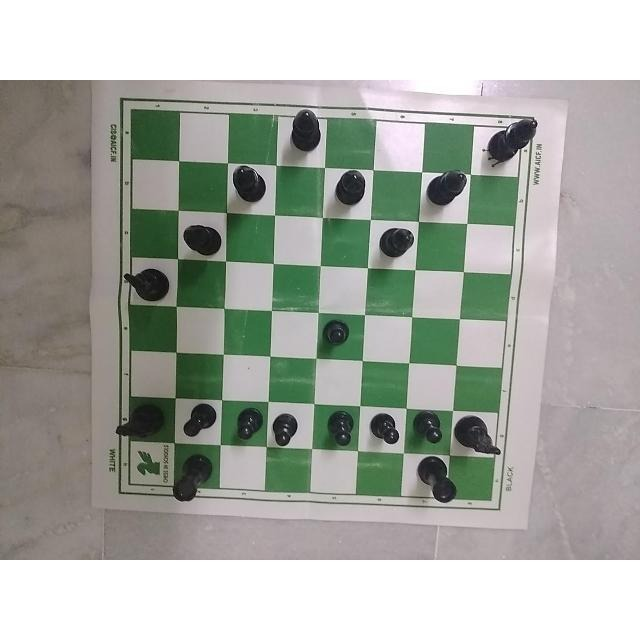black-bishop: (487, 111, 542, 167), (424, 166, 473, 215), (179, 209, 221, 265), (286, 103, 327, 157), (233, 161, 269, 209), (334, 167, 373, 209), (380, 222, 420, 261)
black-knight: (112, 398, 164, 448), (452, 411, 504, 460), (121, 266, 169, 306)
black-pawn: (174, 399, 220, 443), (227, 403, 268, 447), (313, 312, 359, 350), (412, 410, 448, 450), (326, 407, 360, 449), (369, 412, 402, 452), (269, 410, 300, 447)
black-rook: (161, 454, 219, 510), (407, 456, 456, 504)
